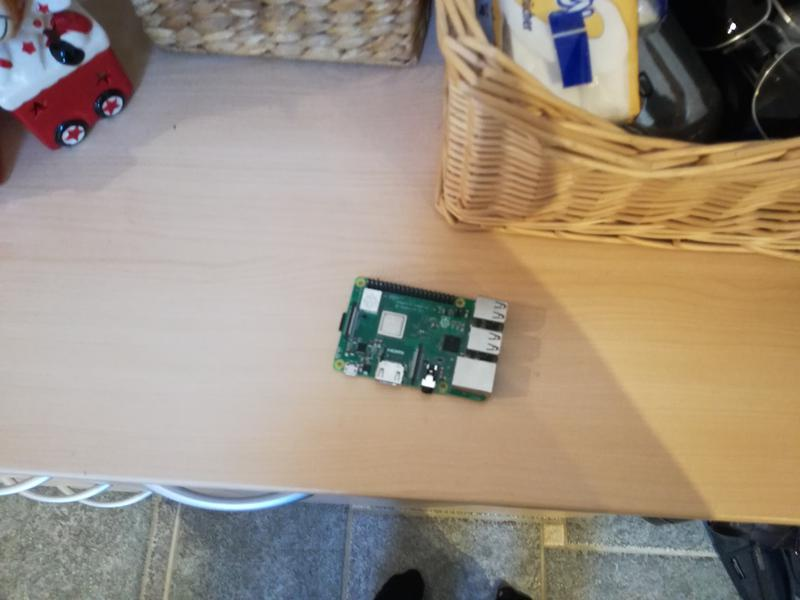Raspberry_Pi_3: (332, 274, 509, 401)
